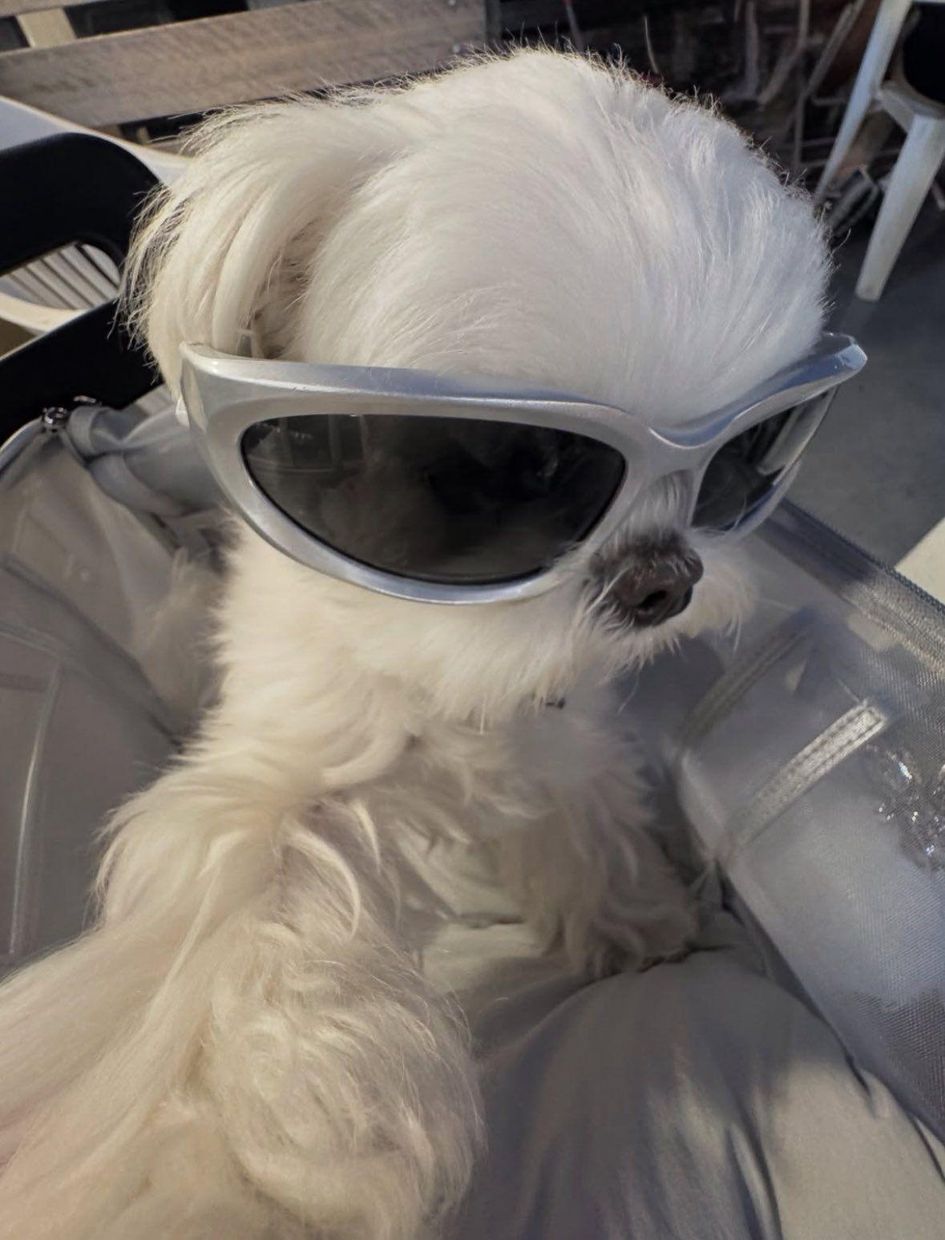adult_dog: (0, 43, 868, 1239)
